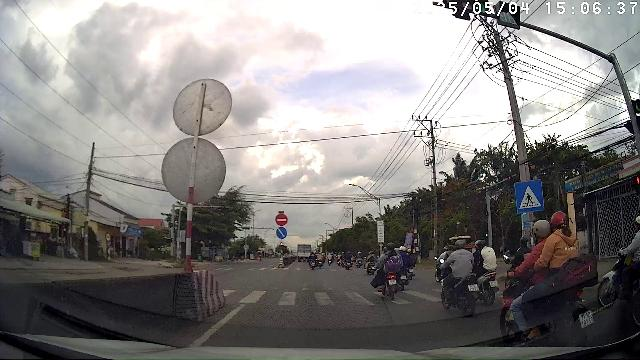102-cam-di-nguoc-chieu: (276, 214, 288, 226)
302a-huong-phai-di-vong-chuong-ngai-vat-1: (276, 227, 286, 239)
423a-duong-nguoi-di-bo-sang-ngang-1: (515, 180, 543, 212)
